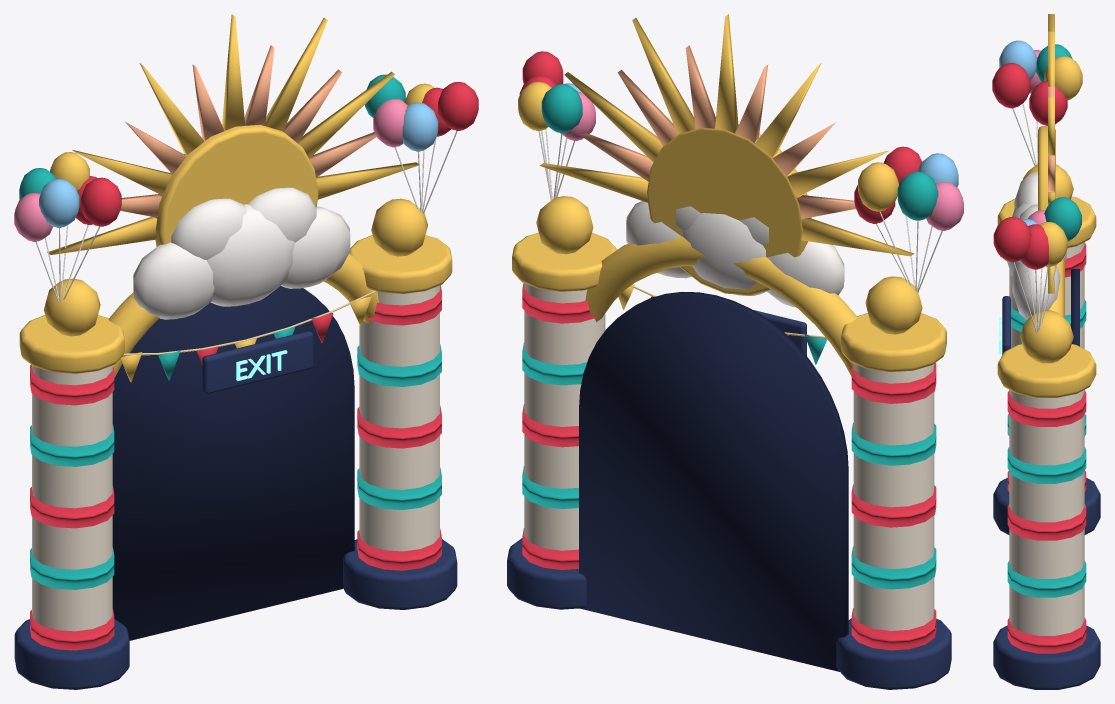
Rendered from sky_portal_arch.glb.
3 renders of one model, left to right at view 1: azimuth 30°, elevation 25°; view 2: azimuth 150°, elevation 25°; view 3: azimuth 270°, elevation 25°, orthographic. The views are drawn at different scales.
Visible parts, largest first — view 1: PortalArch; view 2: PortalArch; view 3: PortalArch.
Boxes of the visible parts, box(x1,y1,x2,y2) form: PortalArch: box(14, 14, 478, 689); PortalArch: box(507, 14, 963, 689); PortalArch: box(992, 14, 1100, 689).
Bounding box in the file's own units: 5.3 × 6.95 × 1.21.
